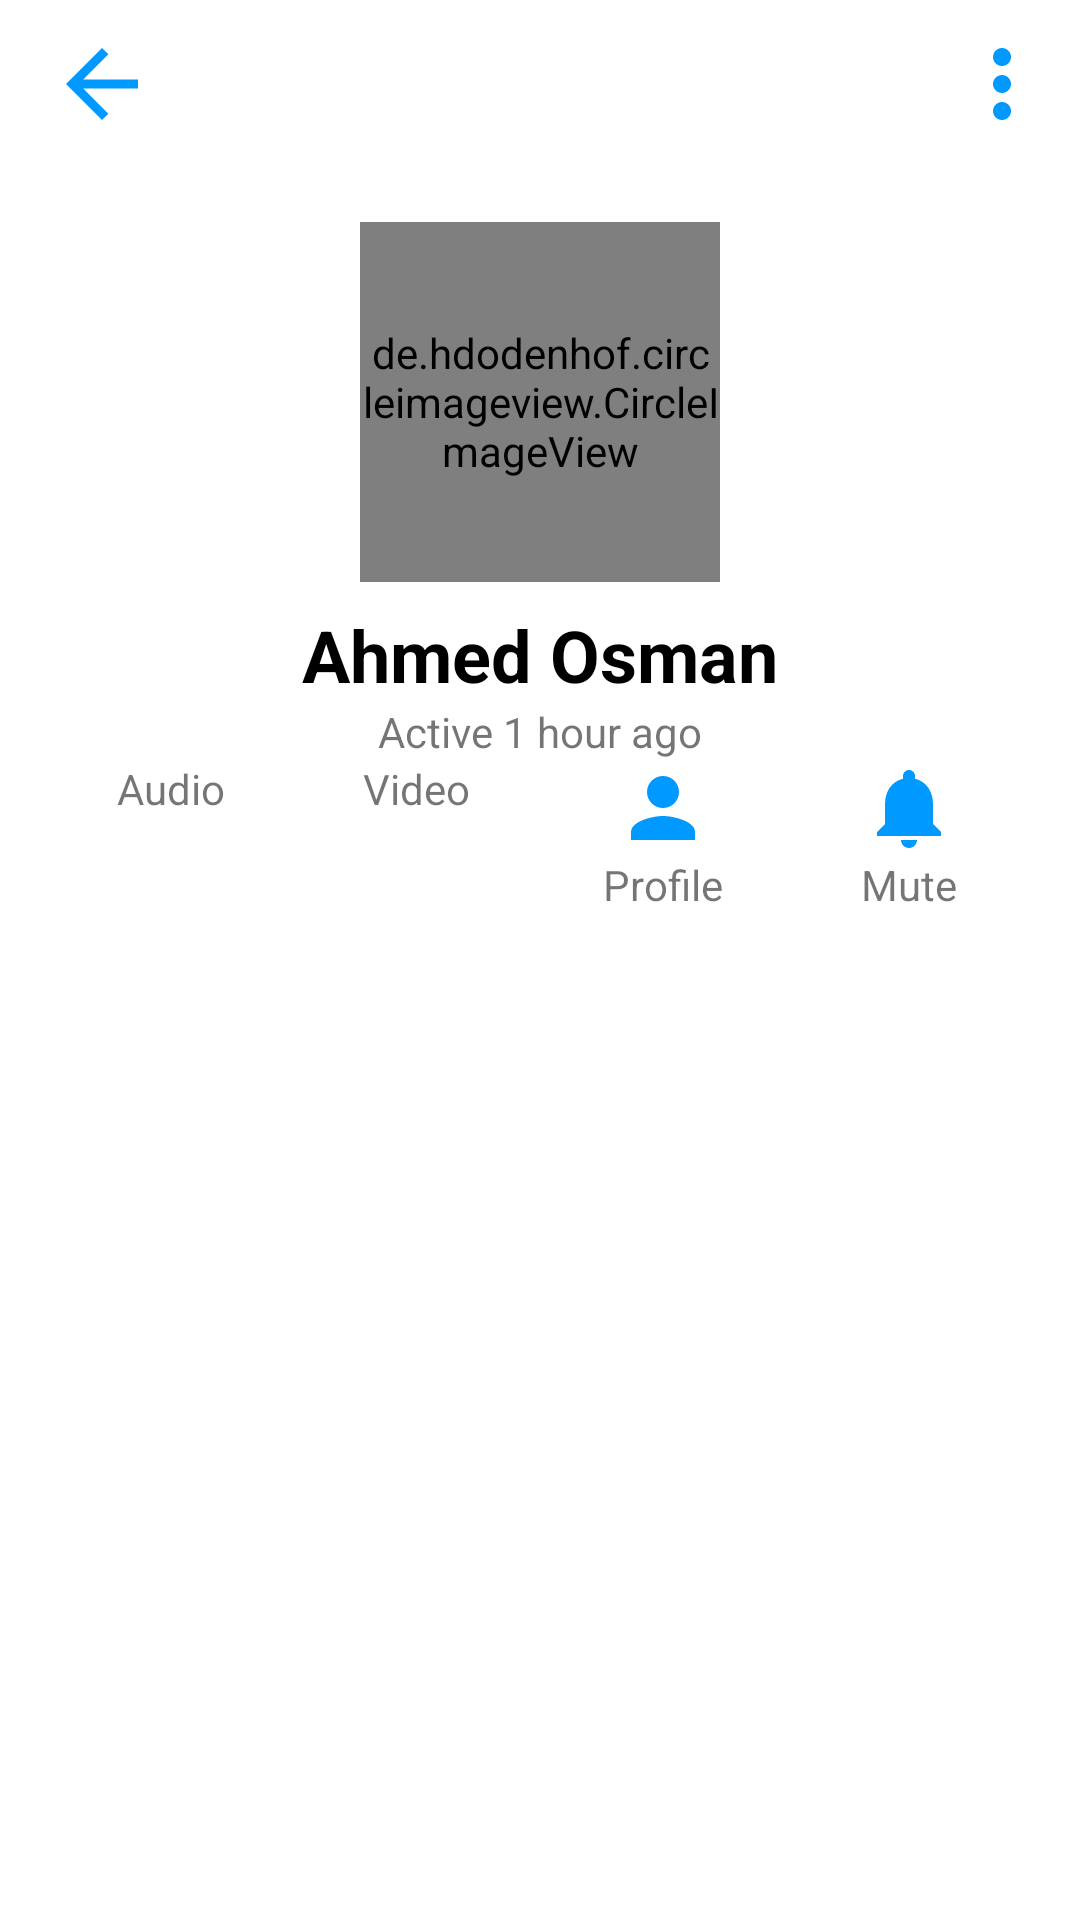

Screen size 1080x1920. Icon name, then its box in pixels as box=[x1, y1, x2, y2]:
back: box=[66, 48, 138, 120]
icmore: box=[993, 48, 1011, 120]
person: box=[631, 776, 695, 840]
